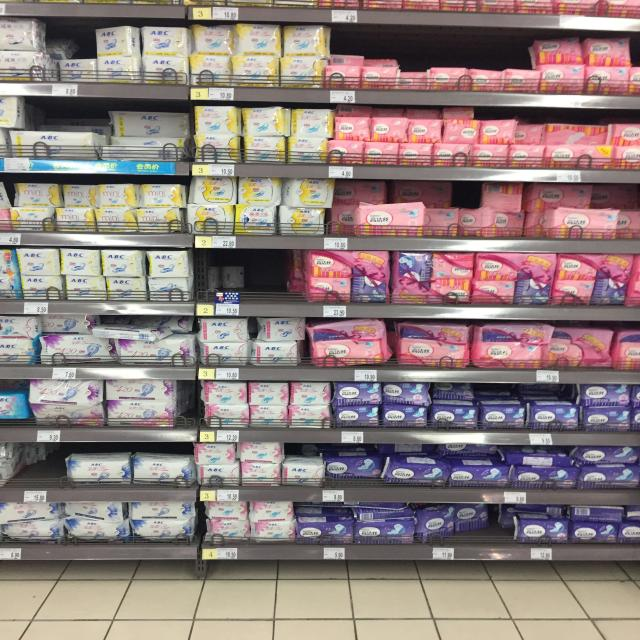void: (250, 250, 304, 324), (0, 441, 61, 504), (612, 124, 639, 190), (612, 323, 638, 387)
